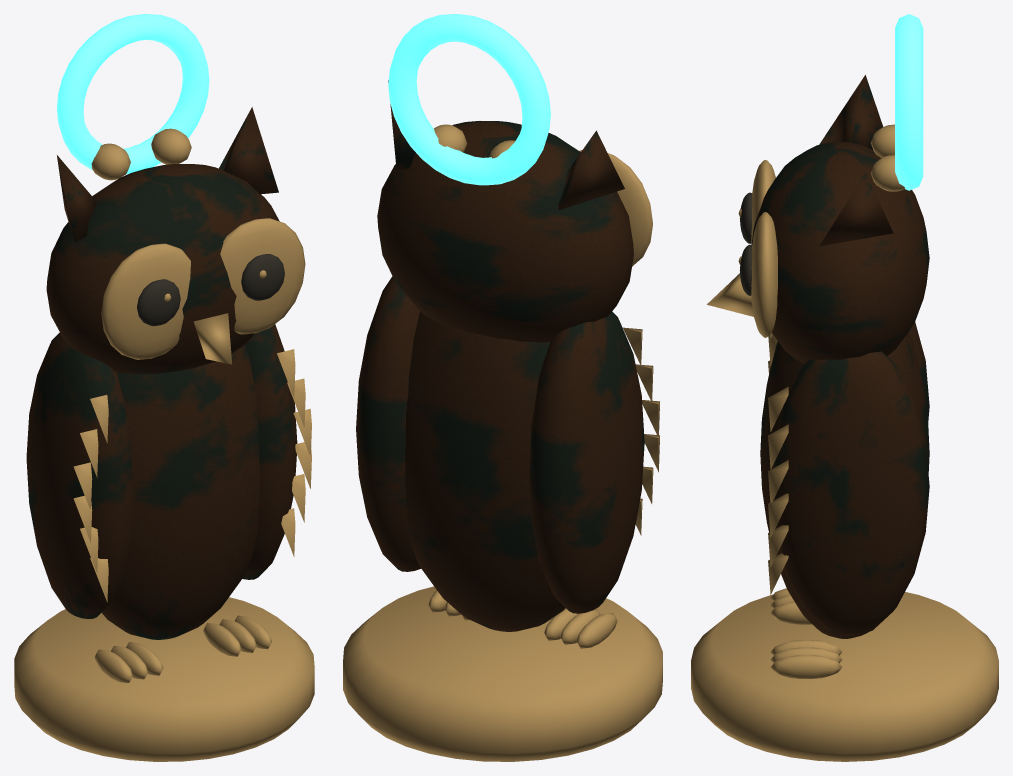
The model's file is statuette.fbx.
3 renders of one model, left to right at view 1: azimuth 30°, elevation 25°; view 2: azimuth 150°, elevation 25°; view 3: azimuth 270°, elevation 25°, orthographic. The views are drawn at different scales.
Parts seen in each view (by area): view 1: Reviewed_statuette_Body.005, TH_S_Statuette_Handle.006; view 2: Reviewed_statuette_Body.005, TH_S_Statuette_Handle.006; view 3: Reviewed_statuette_Body.005, TH_S_Statuette_Handle.006.
Boxes of the visible parts, x1,y1,x2,y2 form: Reviewed_statuette_Body.005: [14, 107, 314, 761]; TH_S_Statuette_Handle.006: [57, 14, 209, 174]; Reviewed_statuette_Body.005: [343, 80, 662, 761]; TH_S_Statuette_Handle.006: [388, 14, 550, 185]; Reviewed_statuette_Body.005: [691, 75, 998, 761]; TH_S_Statuette_Handle.006: [895, 14, 923, 190].
Bounding box in the file's own units: 0.12 × 0.2925 × 0.12.
Materials: 4 (1 with a texture image).
